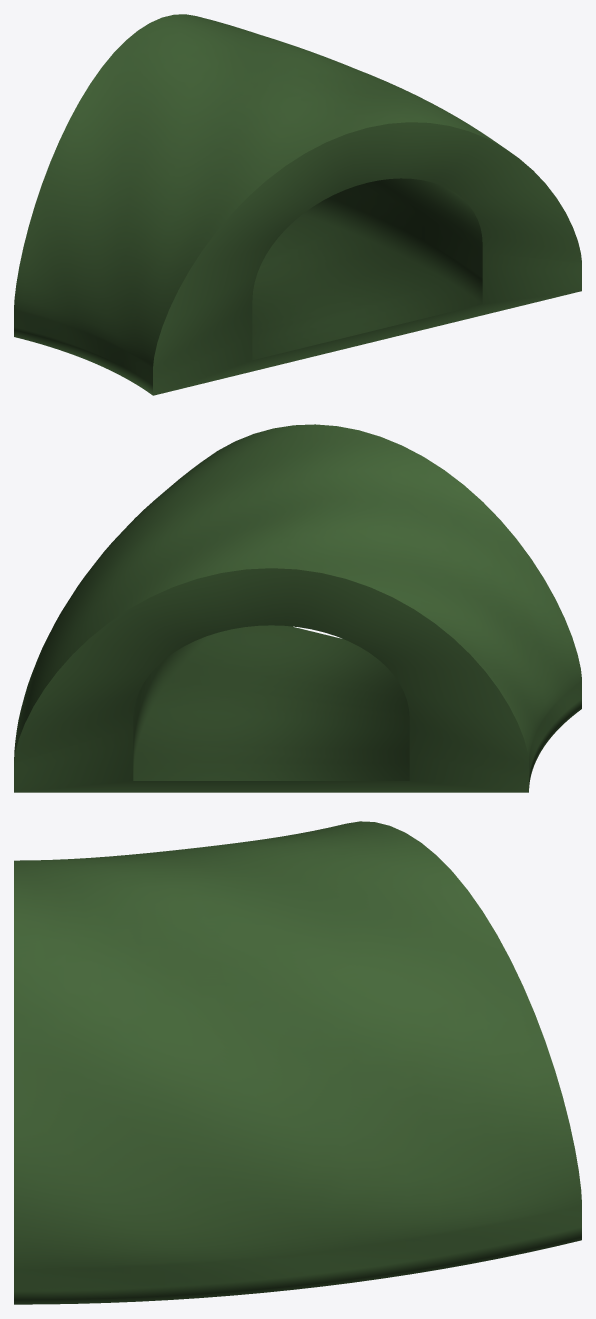
Rendered from curve_left_30_terrain.glb.
3 renders of one model, top to bottom at view 1: azimuth 30°, elevation 25°; view 2: azimuth 150°, elevation 25°; view 3: azimuth 270°, elevation 25°, orthographic. The views are drawn at different scales.
Visible parts, largest first — view 1: TerrainRoof.006; view 2: TerrainRoof.006; view 3: TerrainRoof.006.
Part boxes in pixels (<box>): TerrainRoof.006: <box>14,14,581,395</box>; TerrainRoof.006: <box>14,424,581,792</box>; TerrainRoof.006: <box>14,821,581,1304</box>.
Size of the model in its own units: 31.32 by 13.65 by 25.1.
